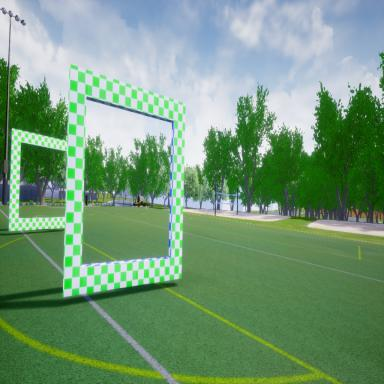gate: (61, 54, 188, 308)
